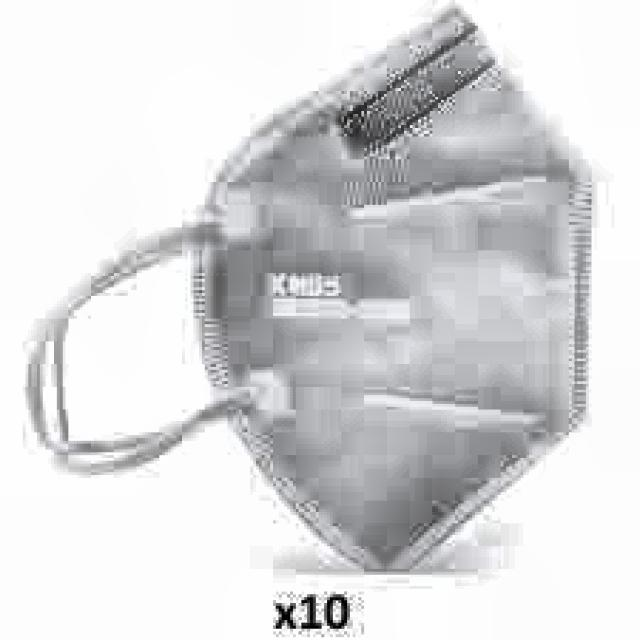trash: (27, 6, 607, 569)
